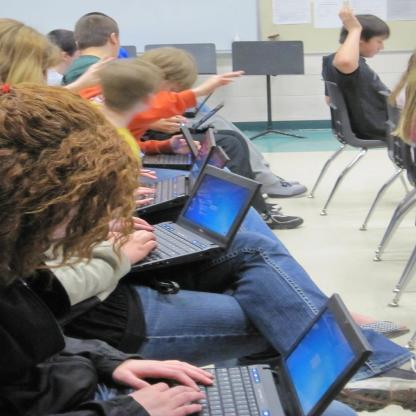board: (168, 293, 374, 416), (133, 163, 261, 271), (133, 144, 230, 216), (141, 121, 200, 169), (189, 103, 223, 131), (182, 95, 210, 117)
